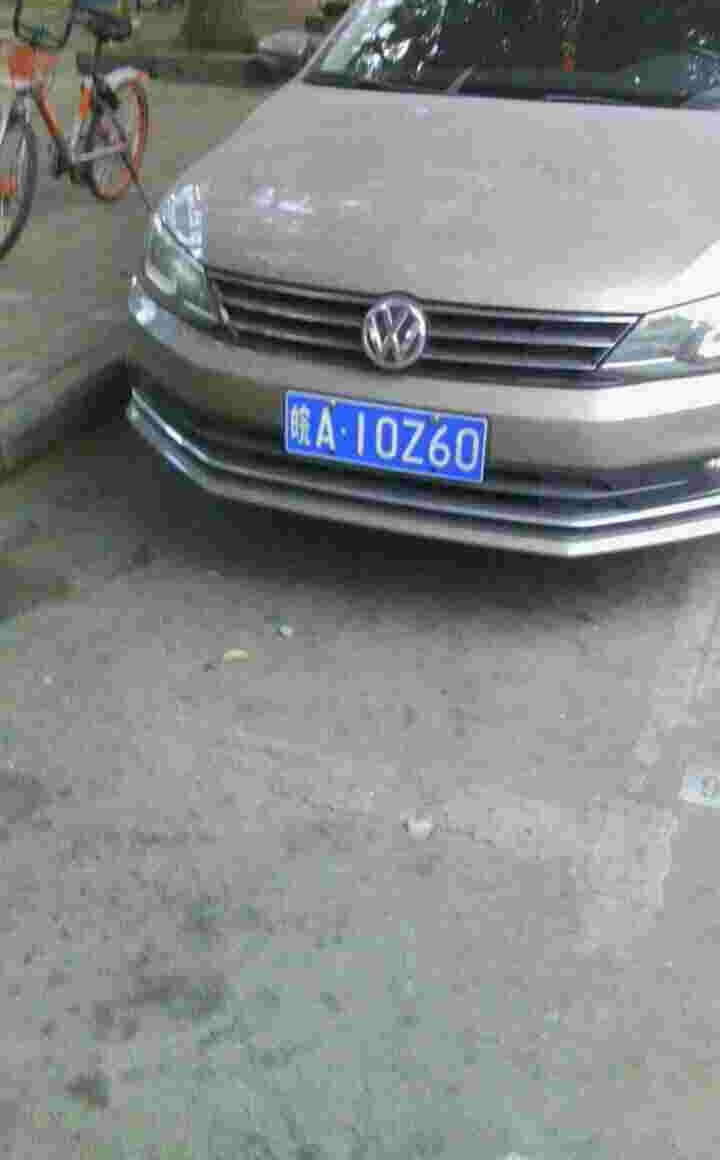plate: (283, 387, 488, 487)
